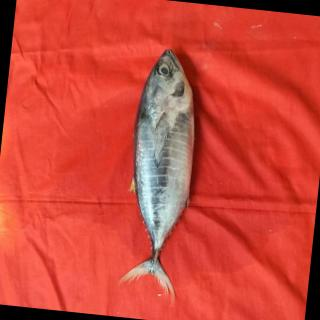Ikan: (109, 38, 226, 317)
